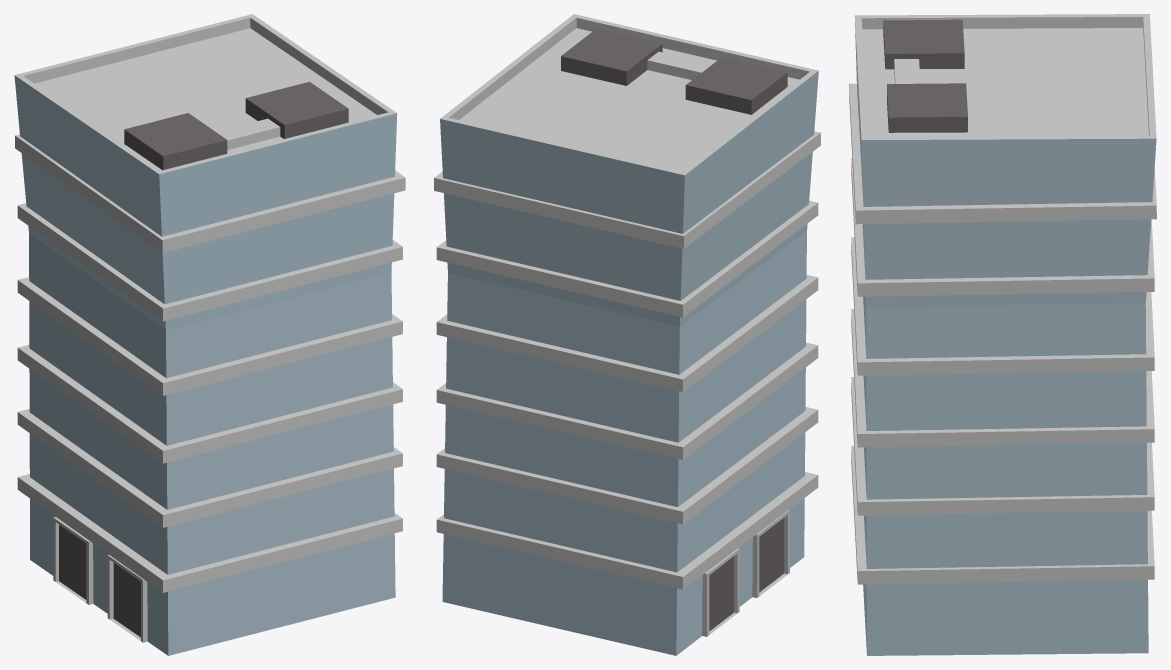
File: building.fbx
3 views of the same model, side by side, from view 1: azimuth 30°, elevation 25°; view 2: azimuth 150°, elevation 25°; view 3: azimuth 270°, elevation 25° (orthographic). The views are drawn at different scales.
Parts seen in each view (by area): view 1: Cube_017; view 2: Cube_017; view 3: Cube_017.
Boxes of the visible parts, x1=… form: Cube_017: x1=14, y1=14, x2=405, y2=655; Cube_017: x1=434, y1=14, x2=820, y2=655; Cube_017: x1=849, y1=14, x2=1156, y2=655.
Bounding box in the file's own units: 2.19 × 4.07 × 2.18.
